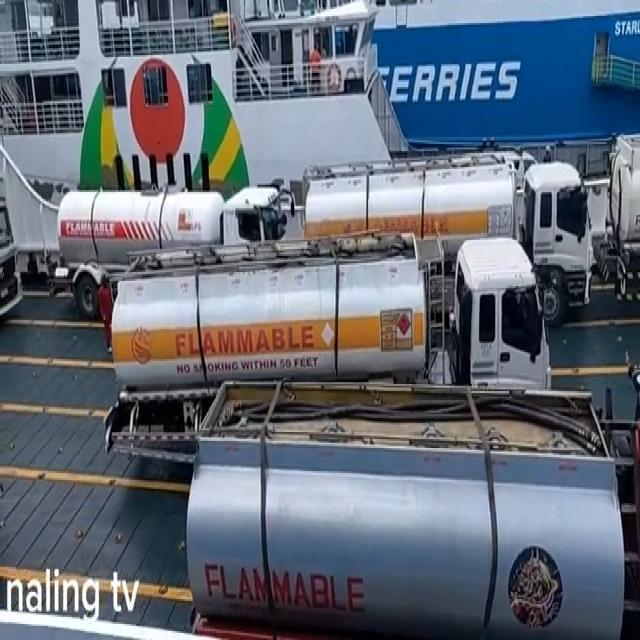truck: (186, 377, 640, 640), (110, 231, 550, 466), (303, 153, 594, 328), (54, 184, 285, 323), (598, 127, 640, 318)
